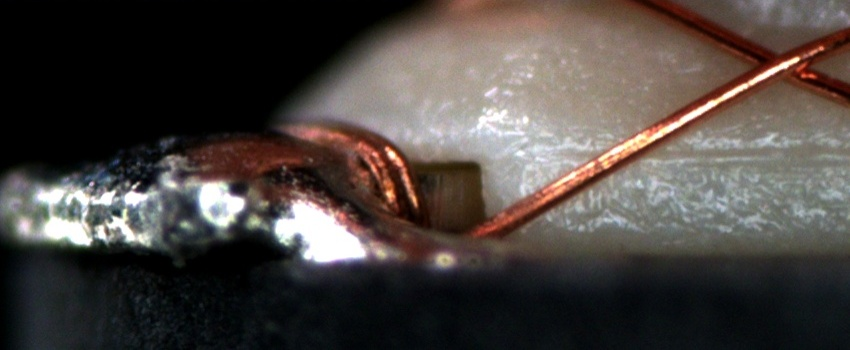CL: (727, 33, 830, 92)
DL: (542, 128, 850, 187)
TE: (287, 119, 429, 222)
